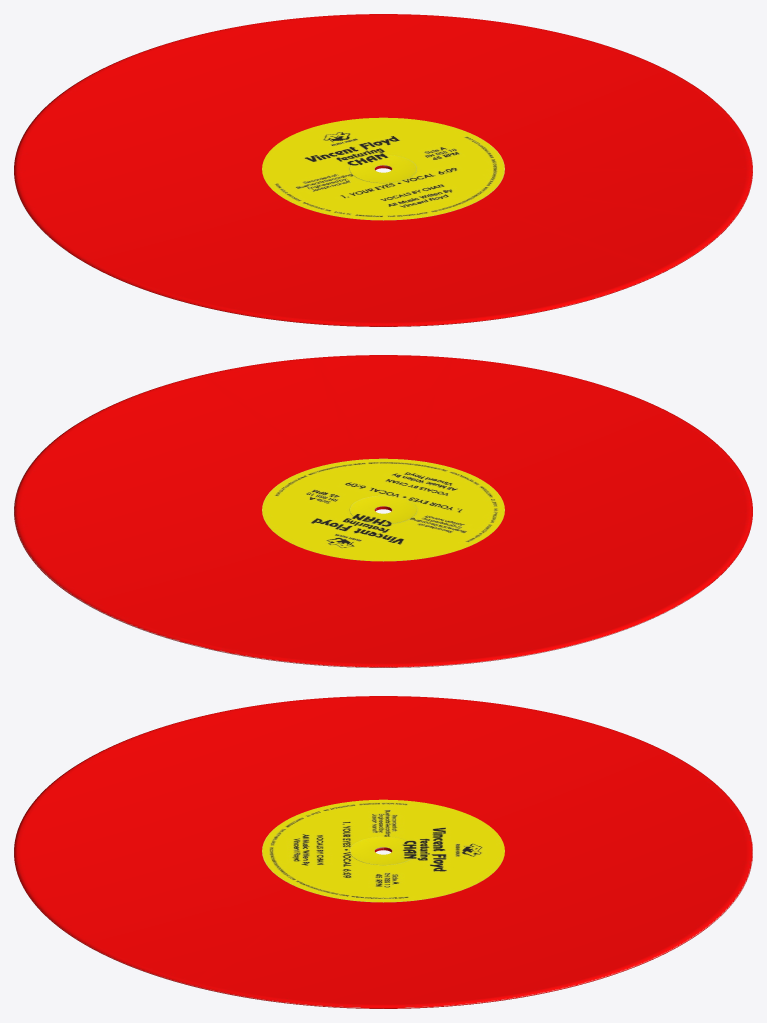
File: vinyl_12_heavy_with_labels.dae
3 renders of one model, top to bottom at view 1: azimuth 30°, elevation 25°; view 2: azimuth 150°, elevation 25°; view 3: azimuth 270°, elevation 25°, orthographic.
Visible parts, largest first — view 1: vinyl, label; view 2: vinyl, label; view 3: vinyl, label.
Boxes of the visible parts, x1=… form: vinyl: x1=14, y1=14, x2=752, y2=326; label: x1=262, y1=117, x2=504, y2=220; vinyl: x1=14, y1=355, x2=752, y2=667; label: x1=262, y1=458, x2=504, y2=561; vinyl: x1=14, y1=696, x2=752, y2=1008; label: x1=262, y1=799, x2=504, y2=902.
Size of the model in its own units: 30.3 by 0.1662 by 30.3.
Materials: 2 (2 with a texture image).
